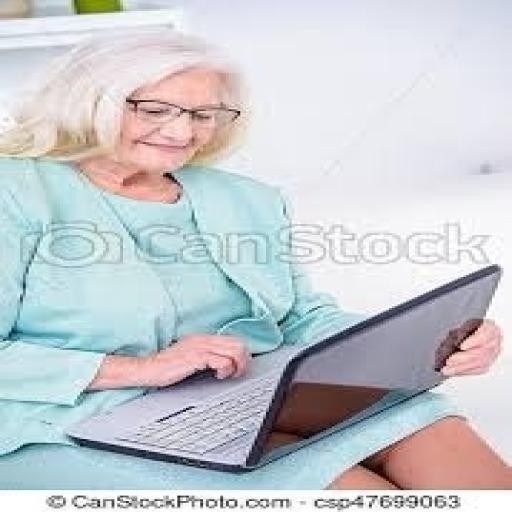using_laptop: (60, 262, 503, 474)
